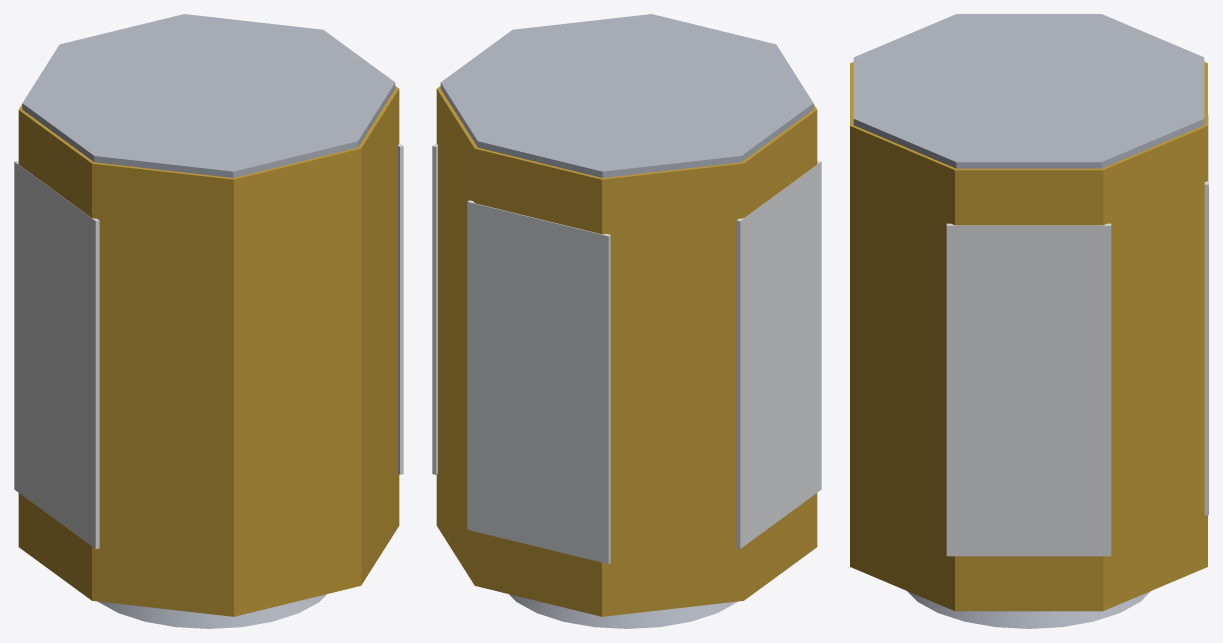
Rendered from leostar2.glb.
3 views of the same model, side by side, from view 1: azimuth 30°, elevation 25°; view 2: azimuth 150°, elevation 25°; view 3: azimuth 270°, elevation 25° (orthographic).
Parts seen in each view (by area): view 1: leostar2_body, leostar2_top, leostar2_rad_xn, leostar2_adapter, leostar2_rad_xp; view 2: leostar2_body, leostar2_rad_y, leostar2_top, leostar2_rad_xn, leostar2_adapter, leostar2_rad_xp; view 3: leostar2_body, leostar2_rad_xp, leostar2_top, leostar2_adapter, leostar2_rad_y.
Part boxes in pixels (bbox=[...]): leostar2_body: bbox=[18, 86, 399, 616]; leostar2_top: bbox=[22, 14, 395, 177]; leostar2_rad_xn: bbox=[14, 160, 99, 548]; leostar2_adapter: bbox=[98, 594, 326, 628]; leostar2_rad_xp: bbox=[398, 143, 403, 474]; leostar2_body: bbox=[436, 86, 817, 616]; leostar2_rad_y: bbox=[467, 200, 610, 563]; leostar2_top: bbox=[440, 14, 813, 177]; leostar2_rad_xn: bbox=[736, 160, 821, 548]; leostar2_adapter: bbox=[509, 594, 737, 628]; leostar2_rad_xp: bbox=[432, 143, 437, 474]; leostar2_body: bbox=[850, 62, 1207, 611]; leostar2_rad_xp: bbox=[946, 223, 1111, 556]; leostar2_top: bbox=[853, 14, 1204, 168]; leostar2_adapter: bbox=[907, 591, 1150, 628]; leostar2_rad_y: bbox=[1204, 115, 1208, 515].
Bounding box in the file's own units: 1 × 1.5 × 1.
